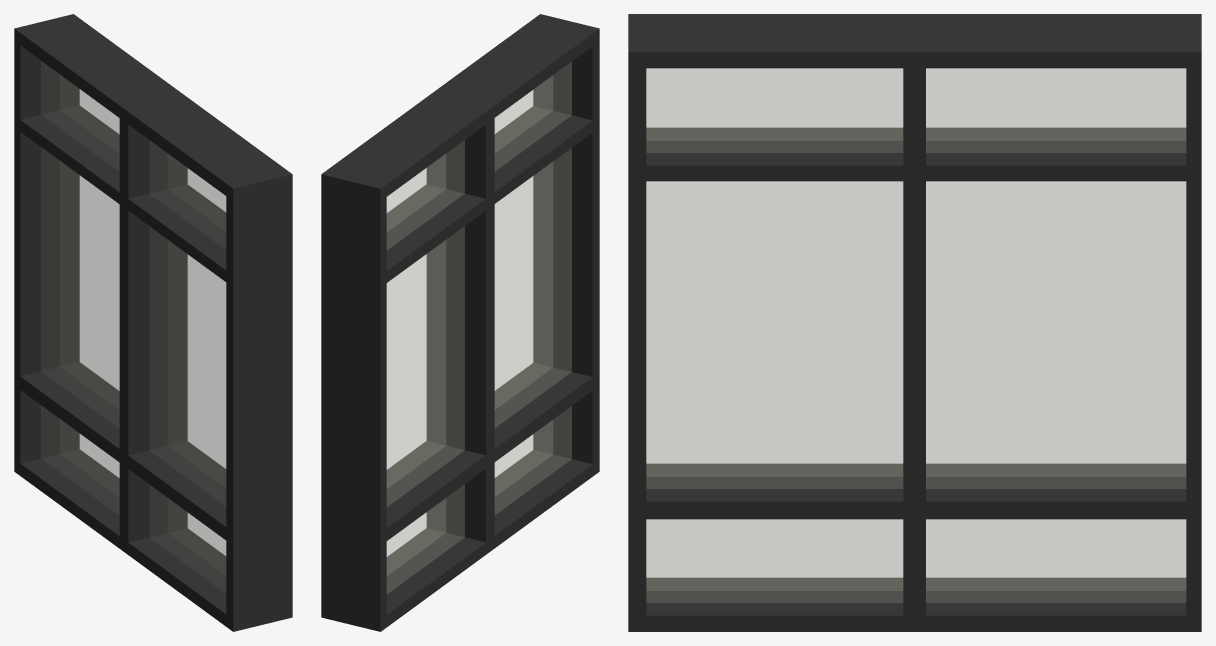
Rendered from S.Window.fbx.
3 renders of one model, left to right at view 1: azimuth 30°, elevation 25°; view 2: azimuth 150°, elevation 25°; view 3: azimuth 270°, elevation 25°, orthographic. The views are drawn at different scales.
Parts seen in each view (by area): view 1: Cube; view 2: Cube; view 3: Cube.
Boxes of the visible parts, <box> form: Cube: <box>14,14,292,631</box>; Cube: <box>321,14,599,631</box>; Cube: <box>628,14,1201,631</box>.
Bounding box in the file's own units: 126 × 902 × 808.
